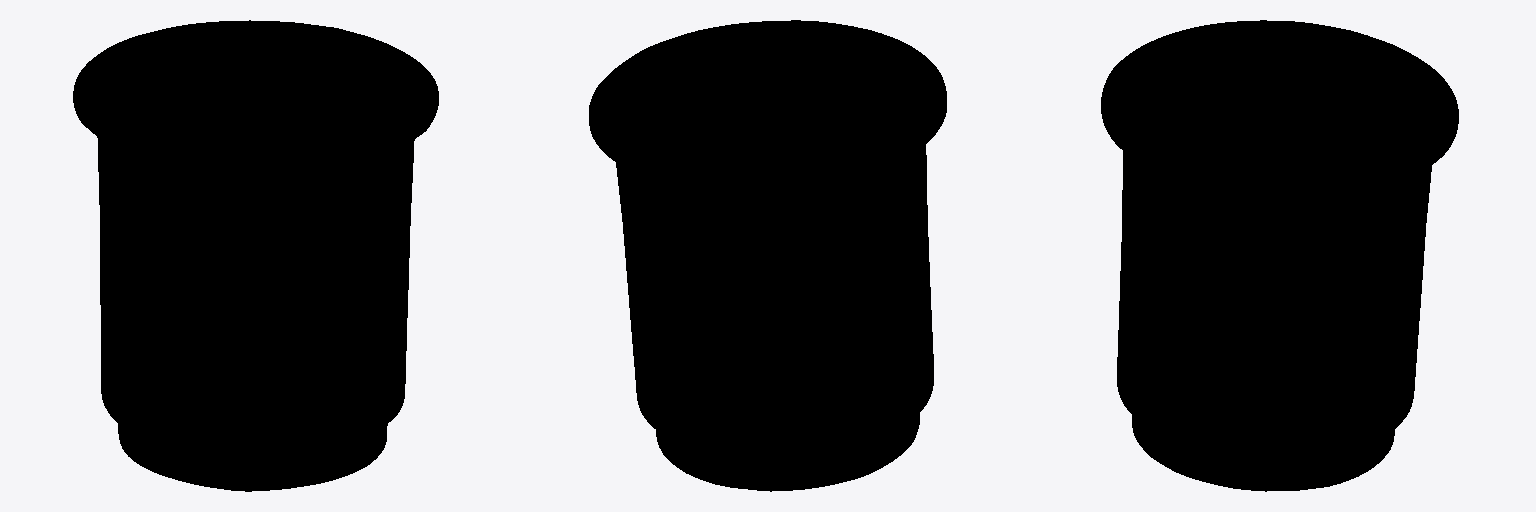
The robot description file, URDF, robot "graspnet-023":

<robot name="graspnet-023">
  <link name="link_graspnet-023">
    <inertial>
      <origin xyz="0 0 0" rpy="0 0 0"/>
    </inertial>
    <visual>
      <origin xyz="0 0 0" rpy="0 0 0"/>
      <geometry>
        <mesh filename="decomposed.obj"/>
      </geometry>
      <material name="">
        <color rgba="0 0 0 1"/>
      </material>
    </visual>
    <collision>
      <origin xyz="0 0 0" rpy="0 0 0"/>
      <geometry>
        <mesh filename="decomposed.obj"/>
      </geometry>
    </collision>
  </link>
</robot>

--- Render facts (derived) ---
3 views of the same robot in one strip: view 1: azimuth 30°, elevation 25°; view 2: azimuth 150°, elevation 25°; view 3: azimuth 270°, elevation 25° (orthographic).
Robot: graspnet-023 — 1 links, 0 joints (none); root link link_graspnet-023; default pose: every joint at zero.
Links seen in each view (by area): view 1: link_graspnet-023; view 2: link_graspnet-023; view 3: link_graspnet-023.
Boxes of the visible links, x1,y1,x2,y2 form: link_graspnet-023: (73, 20, 438, 491); link_graspnet-023: (589, 20, 946, 491); link_graspnet-023: (1101, 20, 1458, 491).
Bounding box of the posed robot: 0.061 × 0.061 × 0.0674 m (x, y, z).
Meshes: 1 distinct files referenced, 1 mesh visuals loaded (1 OBJ).
